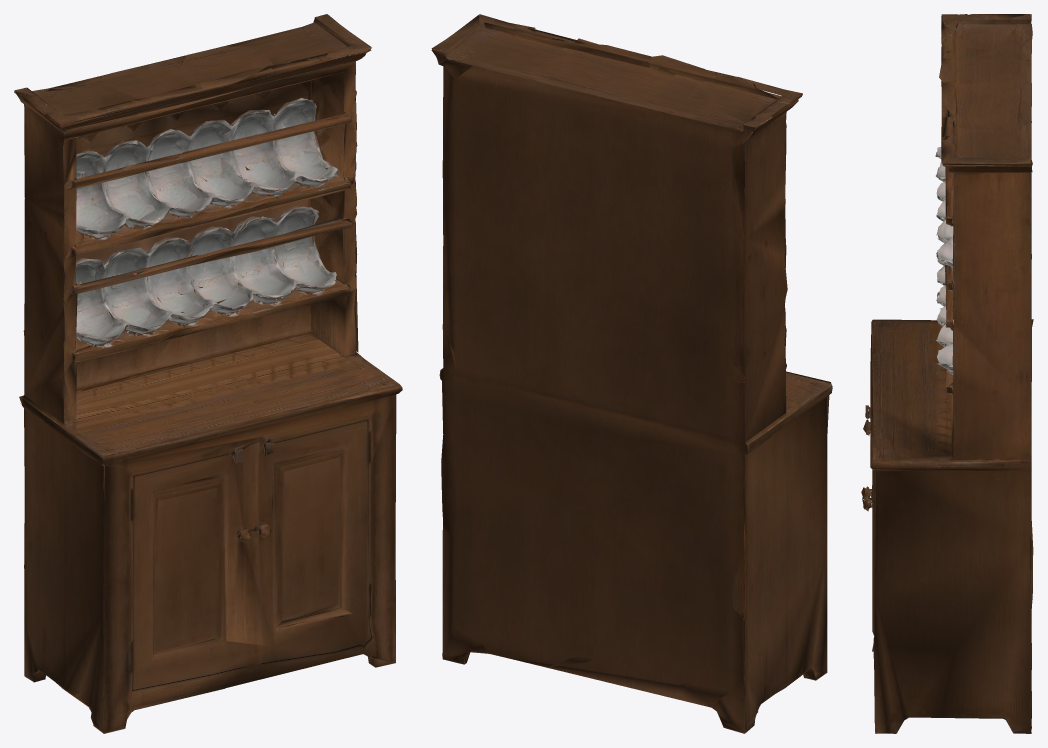
File: dresser-shelves-interior-lod.glb
3 renders of one model, left to right at view 1: azimuth 30°, elevation 25°; view 2: azimuth 150°, elevation 25°; view 3: azimuth 270°, elevation 25°, orthographic. The views are drawn at different scales.
Parts seen in each view (by area): view 1: Mesh_0; view 2: Mesh_0; view 3: Mesh_0.
Part boxes in pixels (x1,y1,x2,y2): Mesh_0: [14, 14, 402, 733]; Mesh_0: [431, 14, 832, 733]; Mesh_0: [861, 14, 1033, 733].
Size of the model in its own units: 1.06 by 1.91 by 0.5156.
1 material, 1 textured.
